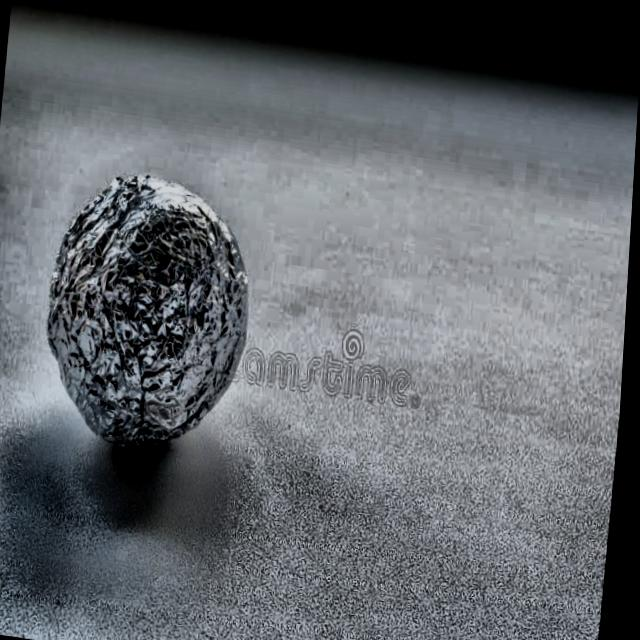Foil: (23, 131, 280, 500)
